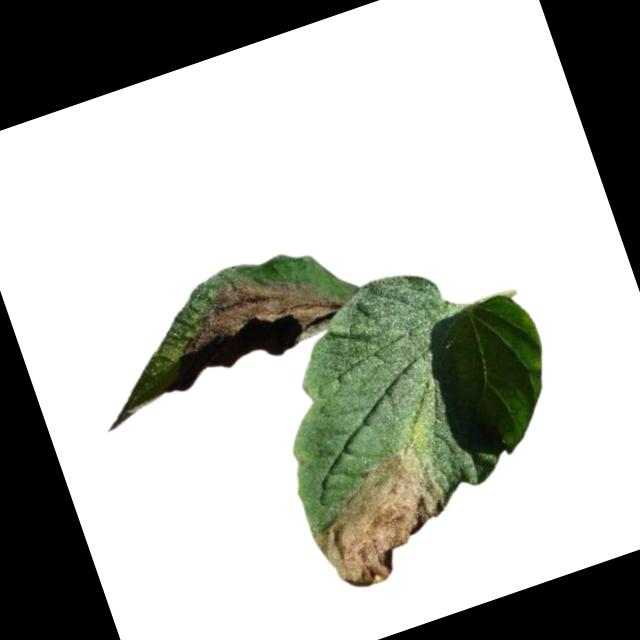Late_blight: (293, 434, 470, 600), (165, 250, 340, 368)
